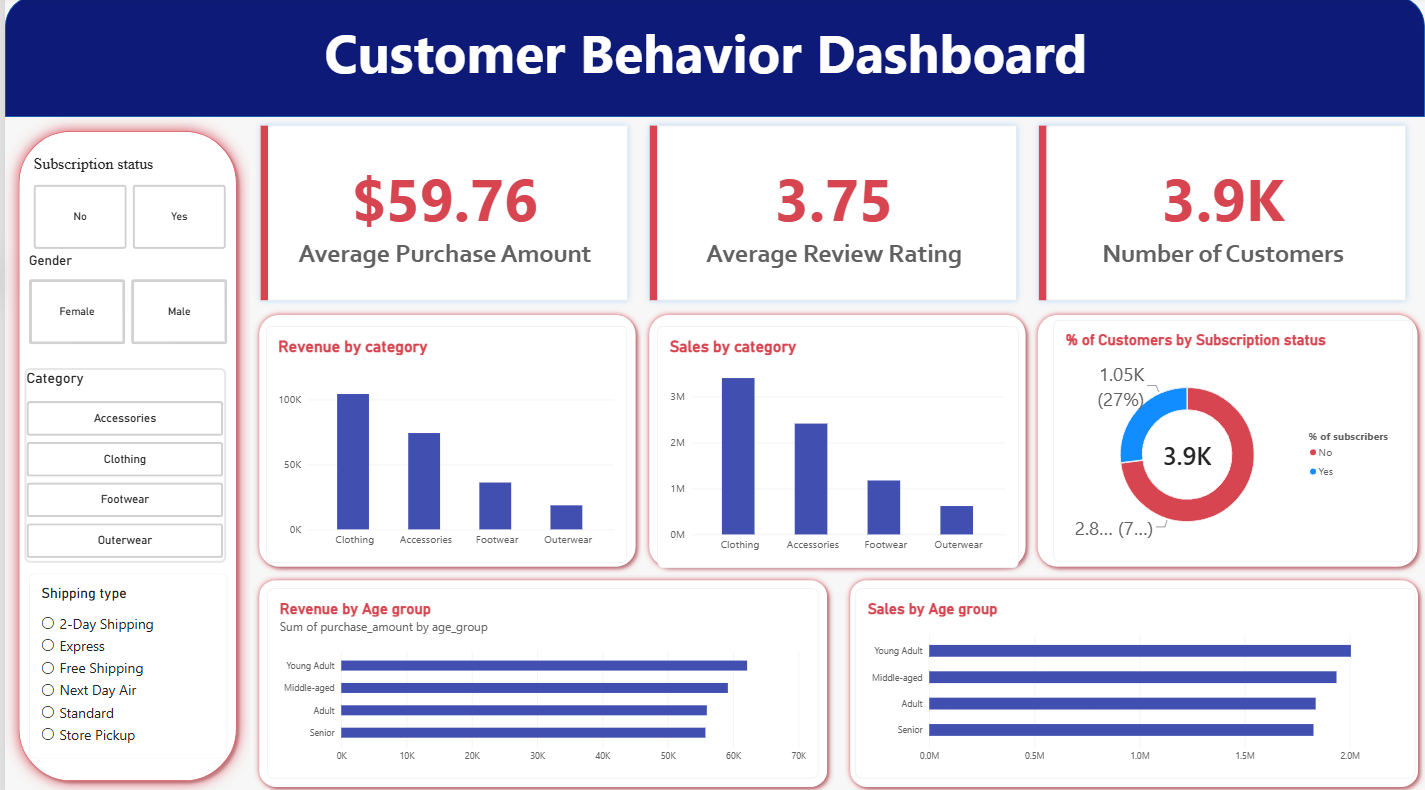

The page's visual inventory and layout, read from the dashboard file:
{"tool":"powerbi","page":{"name":"Page 1","canvas":[1920,1080],"ordinal":0},"visuals":[{"type":"cardVisual","fields":{"Data":["public customer.Average Purchase Amount","public customer.Average Review Rating","public customer.Number of Customers"]},"box":[333.9,163.5,1571.7,258.9],"z":0},{"type":"shape","box":[0,0,1919.3,163.5],"z":1000},{"type":"textbox","box":[15.9,27.3,1862.5,213.5],"z":2000},{"type":"shape","box":[1387.8,422.5,531.5,358.9],"z":3000},{"type":"donutChart","title":"% of Customers by Subscription status","fields":{"Category":["public customer.subscription_status"],"Y":["CountNonNull(public customer.customer_id)"]},"box":[1417.3,438.4,486.1,327.1],"z":4000},{"type":"shape","box":[860.8,422.5,526.9,358.9],"z":5000},{"type":"shape","box":[333.9,422.5,526.9,358.9],"z":6000},{"type":"clusteredColumnChart","title":"Revenue by category","fields":{"Y":["Sum(public customer.purchase_amount)"],"Category":["public customer.category"]},"box":[352.1,445.2,488.3,320.3],"z":7000},{"type":"clusteredColumnChart","title":"Sales by category","fields":{"Y":["Sum(public customer.customer_id)"],"Category":["public customer.category"]},"box":[881.3,445.2,488.3,327.1],"z":8000},{"type":"shape","box":[0,163.5,331.6,915.3],"z":9000},{"type":"shape","box":[333.9,781.3,785.9,297.5],"z":10000},{"type":"shape","box":[1133.4,781.3,785.9,297.5],"z":11000},{"type":"advancedSlicerVisual","title":"Subscription status","fields":{"Values":["public customer.subscription_status"]},"box":[38.6,215.8,261.2,127.2],"z":12000},{"type":"advancedSlicerVisual","title":"Category","fields":{"Values":["public customer.category"]},"box":[27.3,502,272.6,263.5],"z":13000},{"type":"advancedSlicerVisual","title":"Gender","fields":{"Values":["public customer.gender"]},"box":[31.8,347.5,268,124.9],"z":14000},{"type":"listSlicer","title":"Shipping type","fields":{"Values":["public customer.shipping_type"]},"box":[31.8,781.3,268,249.8],"z":14001},{"type":"clusteredBarChart","title":"Revenue by Age group","fields":{"Y":["Sum(public customer.purchase_amount)"],"Category":["public customer.age_group"]},"box":[354.3,801.8,745,256.7],"z":14002},{"type":"clusteredBarChart","title":"Sales by Age group","fields":{"Y":["Sum(public customer.customer_id)"],"Category":["public customer.age_group"]},"box":[1149.3,801.8,756.3,256.7],"z":14003}]}

Visuals, with their boxes in screenshot pixels (x1, y1, x2, y2), scaled from the page's 1920x1080 canvas onto the 1425x790 screenshot:
cardVisual - public customer.Average Purchase Amount x public customer.Average Review Rating: locate(248, 120, 1414, 309)
shape: locate(0, 0, 1424, 120)
textbox: locate(12, 20, 1394, 176)
shape: locate(1030, 309, 1424, 572)
"% of Customers by Subscription status" donutChart: locate(1052, 321, 1413, 560)
shape: locate(639, 309, 1030, 572)
shape: locate(248, 309, 639, 572)
"Revenue by category" clusteredColumnChart: locate(261, 326, 624, 560)
"Sales by category" clusteredColumnChart: locate(654, 326, 1016, 565)
shape: locate(0, 120, 246, 789)
shape: locate(248, 572, 831, 789)
shape: locate(841, 572, 1424, 789)
"Subscription status" advancedSlicerVisual: locate(29, 158, 223, 251)
"Category" advancedSlicerVisual: locate(20, 367, 223, 560)
"Gender" advancedSlicerVisual: locate(24, 254, 223, 346)
"Shipping type" listSlicer: locate(24, 572, 223, 754)
"Revenue by Age group" clusteredBarChart: locate(263, 587, 816, 774)
"Sales by Age group" clusteredBarChart: locate(853, 587, 1414, 774)
